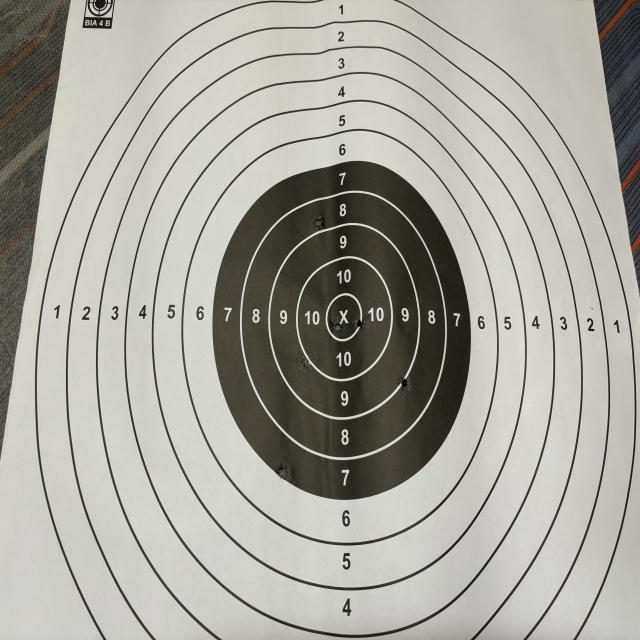bullet: (276, 464, 288, 476), (332, 322, 342, 335), (316, 216, 324, 228), (300, 360, 308, 368), (400, 380, 408, 388), (356, 319, 364, 327)
target: (0, 0, 640, 640)
